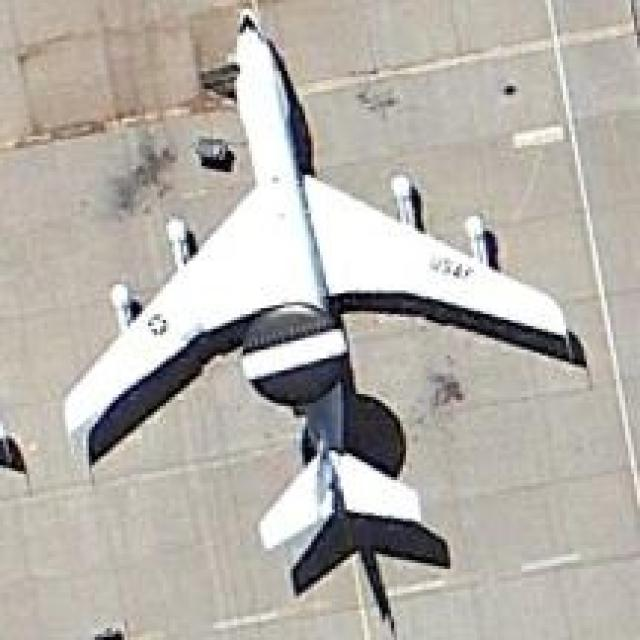E-3_TopDown: (59, 6, 593, 637)
